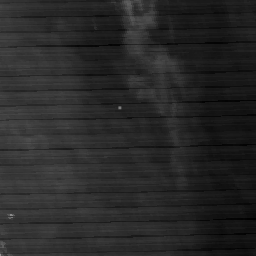Target: (116, 105, 122, 110)
